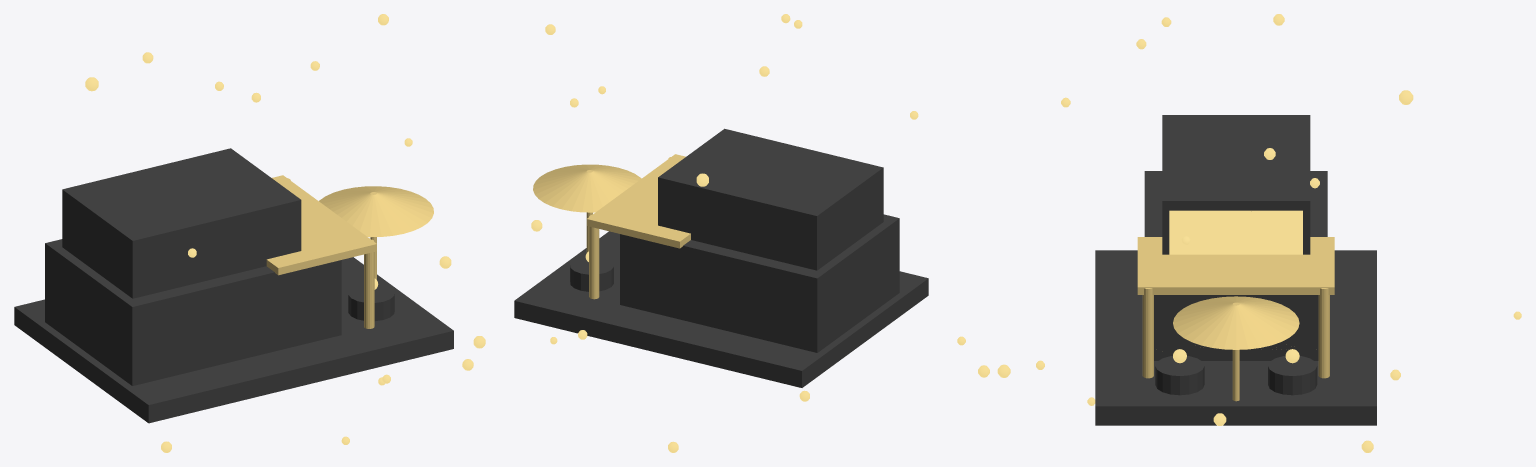
File: restaurants_bubble.glb
3 views of the same model, side by side, from view 1: azimuth 30°, elevation 25°; view 2: azimuth 150°, elevation 25°; view 3: azimuth 270°, elevation 25° (orthographic). The views are drawn at different scales.
Visible parts, largest first — view 1: Cube.003, Cube.001, Cube, Cube.005, Cone, Cylinder.002, Cylinder; view 2: Cube.001, Cube.003, Cube, Cube.005, Cone, Cylinder.003, Cylinder.001; view 3: Cube, Cube.003, Cube.005, Cube.001, Cube.004, Cone, Cylinder.002, Cylinder.003, Cylinder, Cylinder.001.
Part boxes in pixels (left/top/right/bottom): Cube.003: left=62, top=148, right=301, bottom=298; Cube.001: left=45, top=239, right=341, bottom=385; Cube: left=14, top=257, right=453, bottom=423; Cube.005: left=266, top=175, right=376, bottom=275; Cone: left=319, top=186, right=433, bottom=237; Cylinder.002: left=348, top=284, right=394, bottom=321; Cylinder: left=364, top=239, right=374, bottom=328; Cube.001: left=620, top=214, right=899, bottom=352; Cube.003: left=658, top=128, right=883, bottom=270; Cube: left=514, top=231, right=928, bottom=387; Cube.005: left=586, top=154, right=690, bottom=248; Cone: left=533, top=164, right=641, bottom=212; Cylinder.003: left=570, top=256, right=613, bottom=291; Cylinder.001: left=589, top=215, right=599, bottom=299; Cube: left=1095, top=250, right=1376, bottom=425; Cube.003: left=1162, top=115, right=1310, bottom=254; Cube.005: left=1137, top=237, right=1334, bottom=294; Cube.001: left=1144, top=171, right=1327, bottom=360; Cube.004: left=1169, top=210, right=1302, bottom=254; Cone: left=1173, top=296, right=1299, bottom=349; Cylinder.002: left=1155, top=356, right=1204, bottom=395; Cylinder.003: left=1268, top=356, right=1317, bottom=395; Cylinder: left=1142, top=288, right=1153, bottom=378; Cylinder.001: left=1318, top=288, right=1329, bottom=378.
Bounding box in the file's own units: 1.24 × 1.3 × 1.6.
